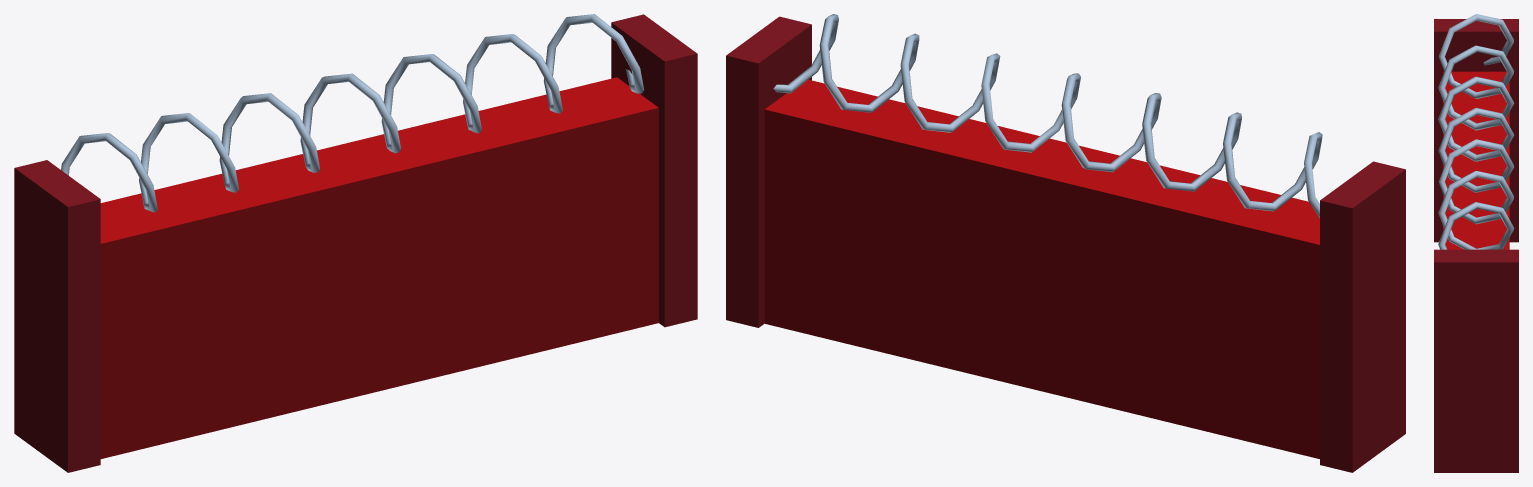
File: PG_wall_cell_end.fbx
3 renders of one model, left to right at view 1: azimuth 30°, elevation 25°; view 2: azimuth 150°, elevation 25°; view 3: azimuth 270°, elevation 25°, orthographic. The views are drawn at different scales.
Visible parts, largest first — view 1: PG_wall_cell_end; view 2: PG_wall_cell_end; view 3: PG_wall_cell_end.
Boxes of the visible parts, x1=… form: PG_wall_cell_end: x1=14, y1=14, x2=697, y2=472; PG_wall_cell_end: x1=726, y1=14, x2=1405, y2=472; PG_wall_cell_end: x1=1434, y1=14, x2=1518, y2=472.
Size of the model in its own units: 447 by 206 by 65.92.
